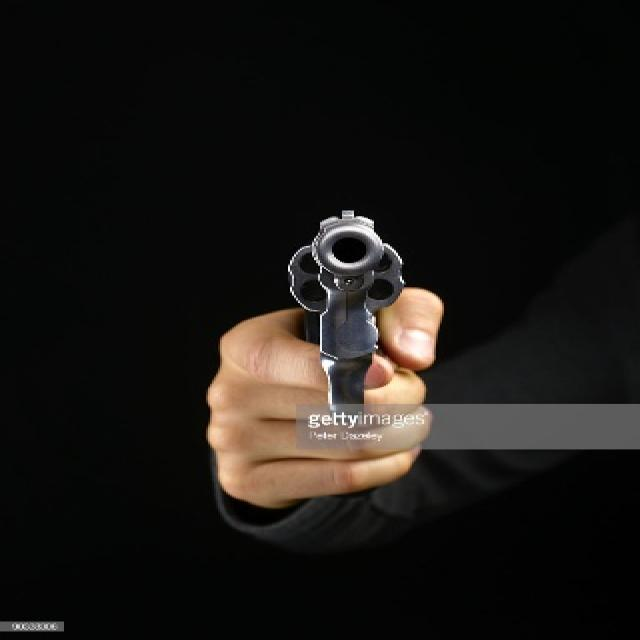handgun: (283, 197, 407, 419)
